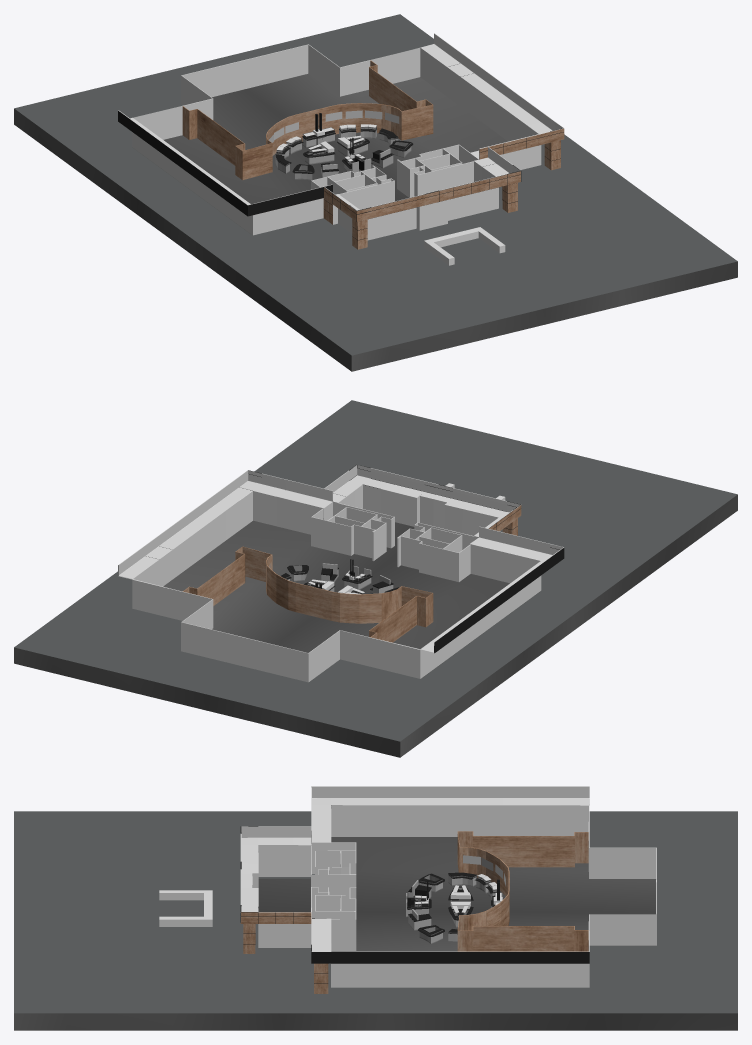
The picture shows the model from 3 angles, top to bottom: view 1: azimuth 30°, elevation 25°; view 2: azimuth 150°, elevation 25°; view 3: azimuth 270°, elevation 25°; orthographic projection. The views are drawn at different scales.
Visible parts, largest first — view 1: Boden, GrundWandAussenwand, Kuechenwand, Toilettenwand, SteinDrausen, Salate, KasseGeschir, GrilllStation; view 2: Boden, GrundWandAussenwand, Kuechenwand, Toilettenwand, TablettAufnahme; view 3: Boden, GrundWandAussenwand, Kuechenwand, Toilettenwand, SteinDrausen, Salate, KasseGeschir, TablettAufnahme, Getraenke, MottoBar.
Part boxes in pixels (bbox=[...]): Boden: bbox=[14, 14, 737, 371]; GrundWandAussenwand: bbox=[118, 33, 564, 249]; Kuechenwand: bbox=[182, 60, 433, 180]; Toilettenwand: bbox=[311, 144, 473, 218]; SteinDrausen: bbox=[424, 227, 505, 265]; Salate: bbox=[303, 135, 369, 164]; KasseGeschir: bbox=[292, 140, 413, 180]; GrilllStation: bbox=[302, 113, 335, 147]; Boden: bbox=[14, 400, 737, 757]; GrundWandAussenwand: bbox=[118, 464, 564, 682]; Kuechenwand: bbox=[183, 546, 433, 642]; Toilettenwand: bbox=[311, 503, 473, 581]; TablettAufnahme: bbox=[321, 563, 393, 593]; Boden: bbox=[14, 811, 737, 1030]; GrundWandAussenwand: bbox=[240, 786, 656, 993]; Kuechenwand: bbox=[457, 831, 588, 951]; Toilettenwand: bbox=[311, 842, 356, 950]; SteinDrausen: bbox=[159, 890, 212, 926]; Salate: bbox=[448, 885, 473, 927]; KasseGeschir: bbox=[418, 873, 444, 943]; TablettAufnahme: bbox=[408, 880, 431, 930]; Getraenke: bbox=[448, 872, 476, 941]; MottoBar: bbox=[406, 880, 431, 916].
Bounding box in the file's own units: 5456 × 760 × 8266.
